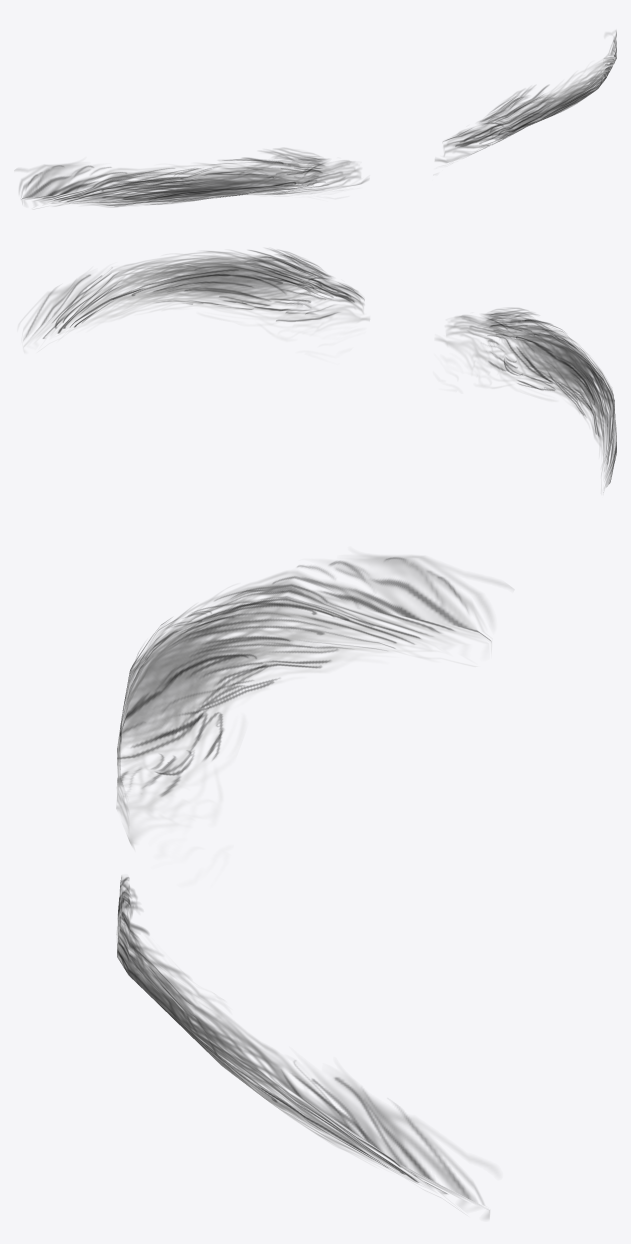
File: brows_eyebrow009.gltf
The picture shows the model from 3 angles, top to bottom: view 1: azimuth 30°, elevation 25°; view 2: azimuth 150°, elevation 25°; view 3: azimuth 270°, elevation 25°; orthographic projection. The views are drawn at different scales.
Parts seen in each view (by area): view 1: brows_eyebrow009; view 2: brows_eyebrow009; view 3: brows_eyebrow009.
Part boxes in pixels (bbox=[...]): brows_eyebrow009: bbox=[15, 30, 616, 207]; brows_eyebrow009: bbox=[18, 249, 616, 492]; brows_eyebrow009: bbox=[116, 554, 512, 1218].
Bounding box in the file's own units: 0.1151 × 0.0175 × 0.0338.
1 material, 1 textured.
